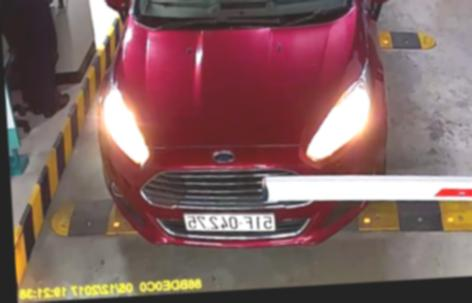License_Plate: (181, 205, 278, 240)
